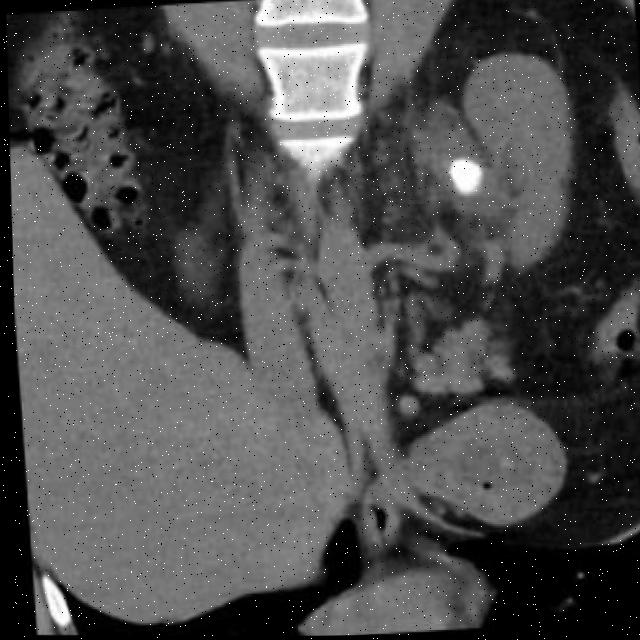Tas_Var: (438, 145, 492, 207)
